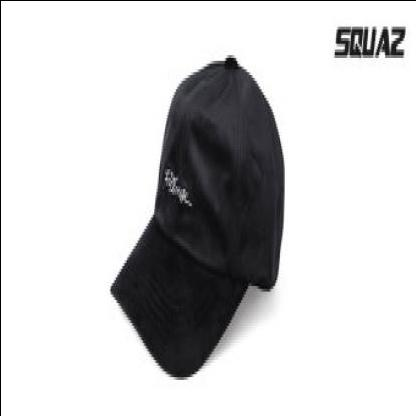cap: (104, 48, 289, 379)
